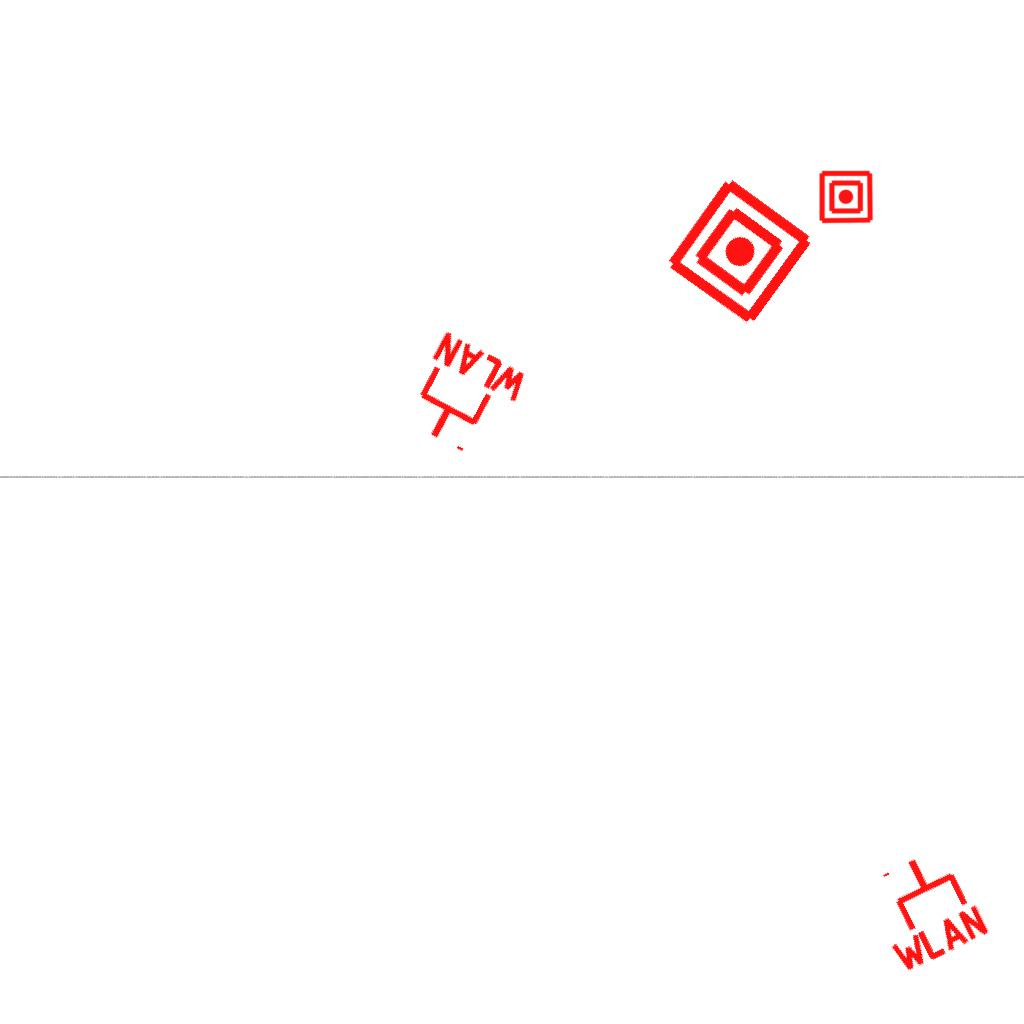NAM-Nichtautomatischer_Melder: (660, 172, 819, 331), (818, 169, 874, 225)
WLAN: (393, 327, 536, 469), (854, 838, 995, 978)
